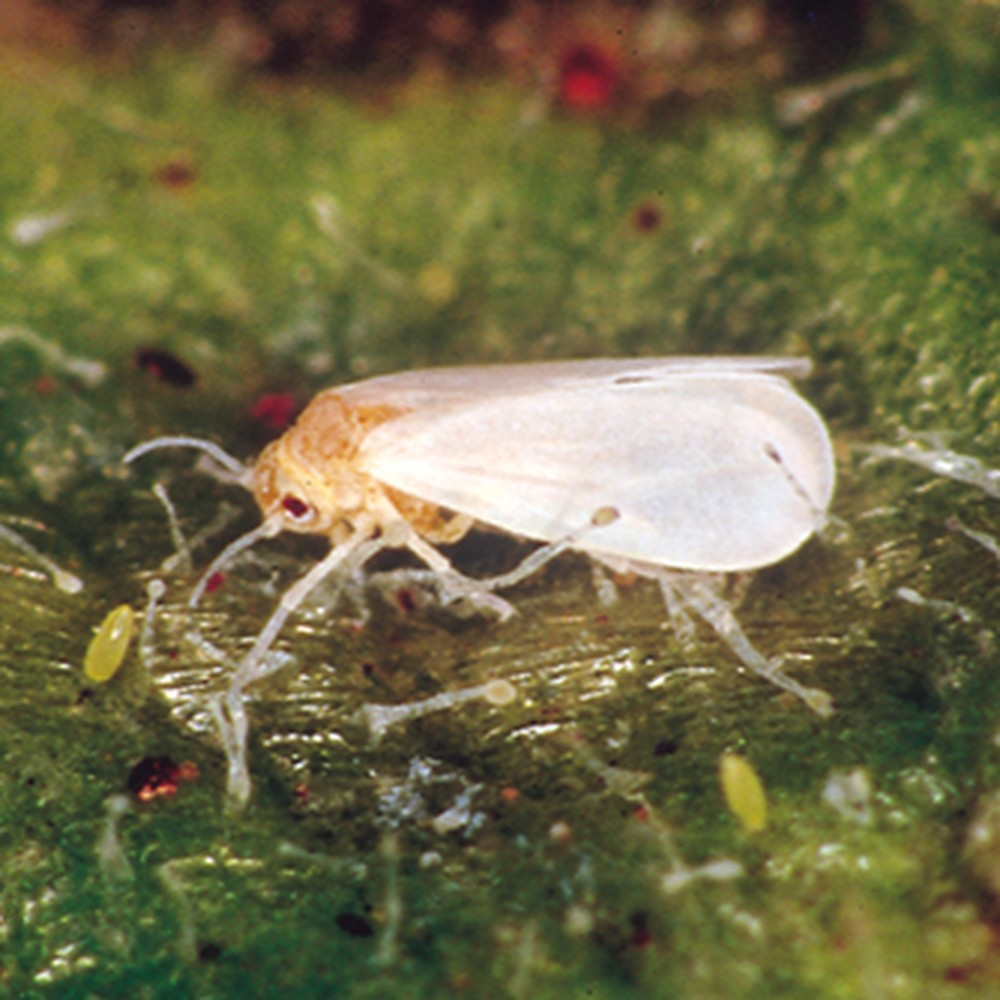Mosca Blanca: (128, 309, 851, 701)
